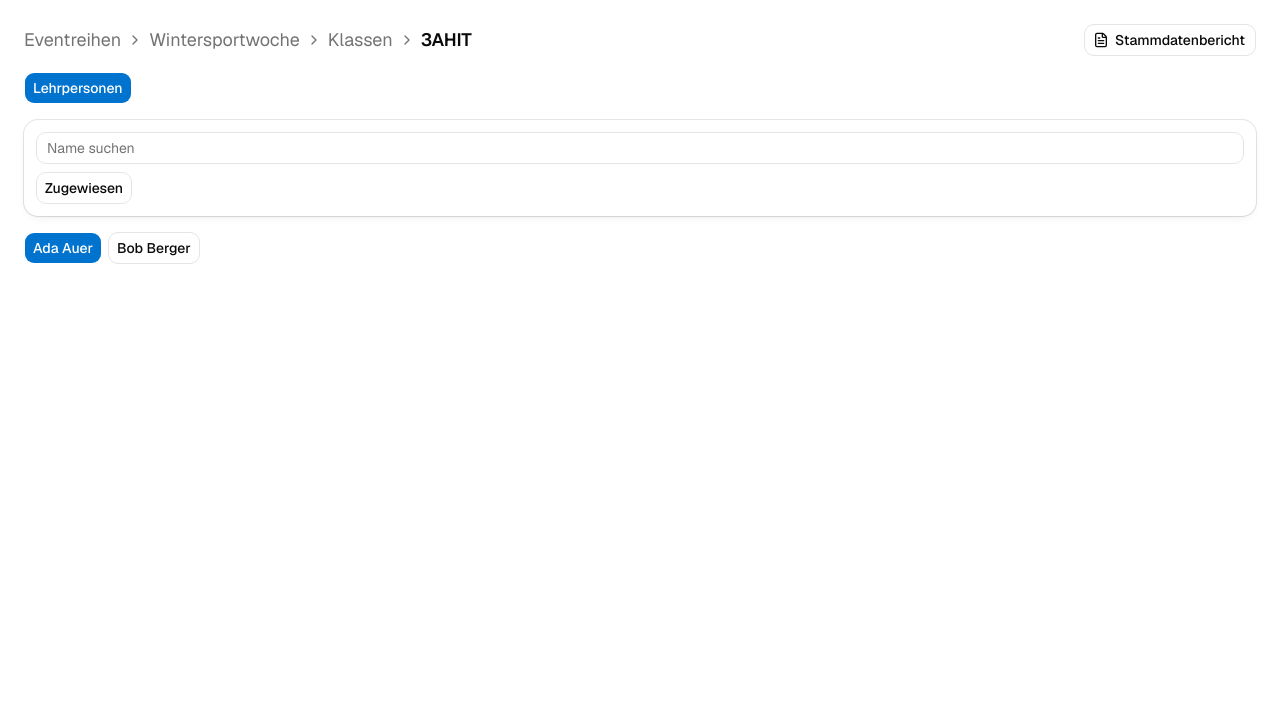
Test: ClassTeachersView › offers the whole series' report, naming who looks after this very class
Step 1. Click the button "Stammdatenbericht" → (1170, 40), box x1=1084 y1=24 x2=1256 y2=56
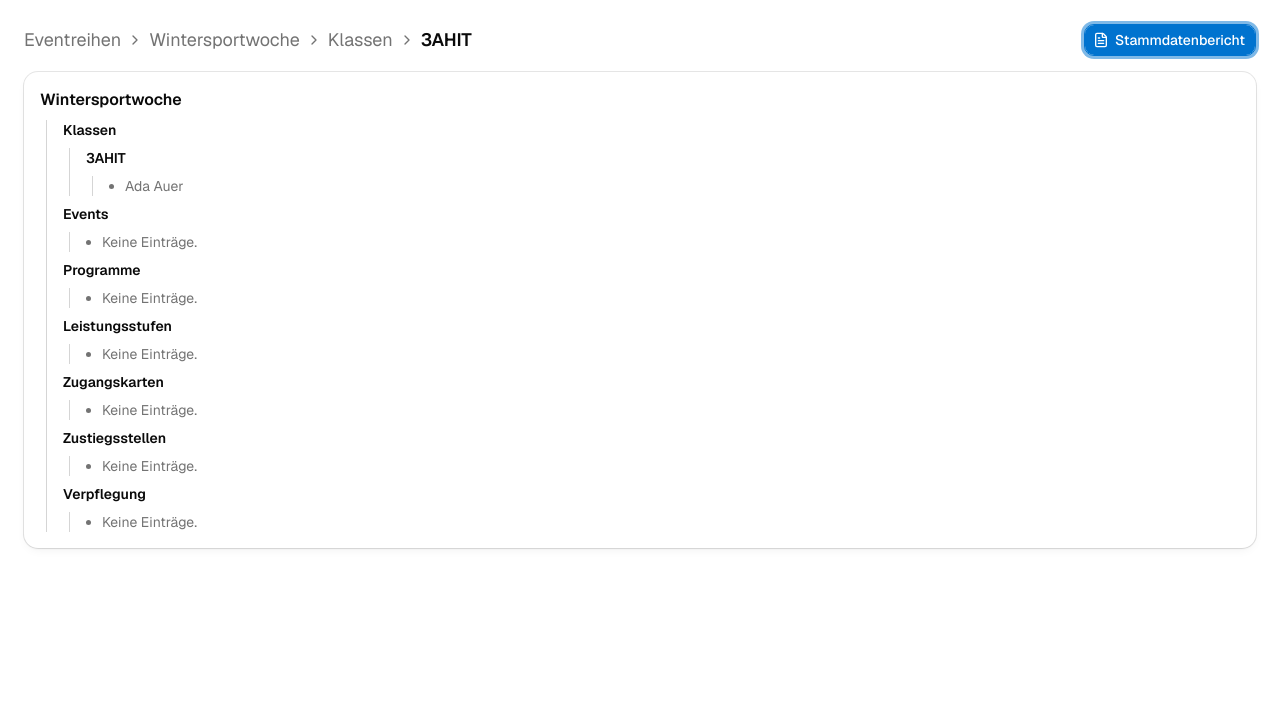
Expected: the list item "Ada Auer" is shown, x1=125 y1=177 x2=184 y2=195
Expected: the heading "Klassen" is shown, x1=63 y1=121 x2=116 y2=139
Expected: the 2nd heading "3AHIT" is shown, x1=86 y1=149 x2=126 y2=167
